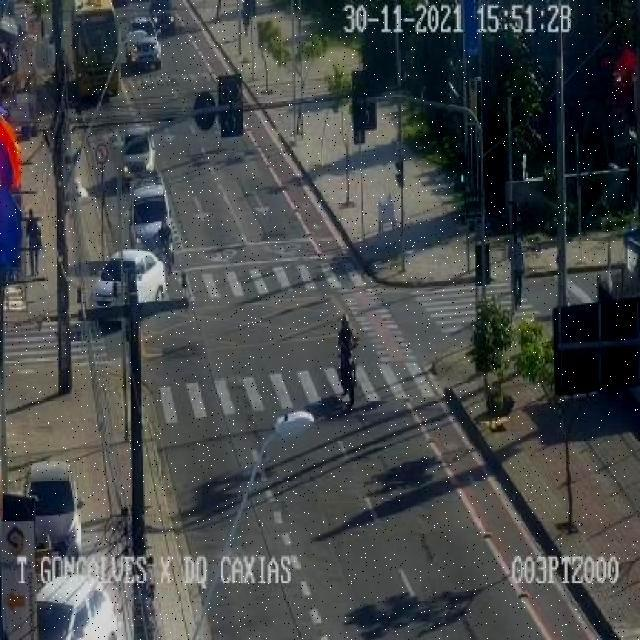Bus: (72, 0, 119, 100)
Car: (36, 571, 126, 640), (25, 460, 83, 561), (92, 248, 168, 314), (128, 180, 176, 258), (117, 129, 166, 187), (124, 18, 163, 71), (149, 1, 177, 37)
Cycle: (331, 307, 364, 397)
